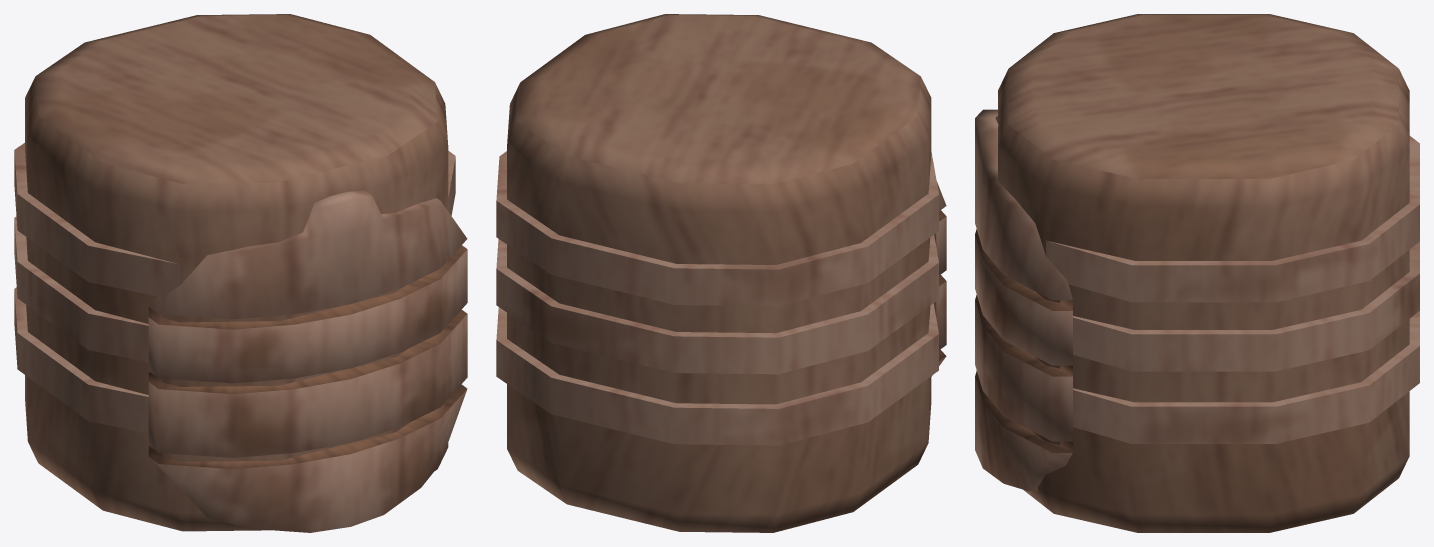
File: totem_pole_cockroach.fbx
3 renders of one model, left to right at view 1: azimuth 30°, elevation 25°; view 2: azimuth 150°, elevation 25°; view 3: azimuth 270°, elevation 25°, orthographic.
Visible parts, largest first — view 1: totem_pole_cockroach; view 2: totem_pole_cockroach; view 3: totem_pole_cockroach.
Part boxes in pixels (bbox=[...]): totem_pole_cockroach: bbox=[14, 14, 467, 532]; totem_pole_cockroach: bbox=[496, 14, 946, 532]; totem_pole_cockroach: bbox=[975, 14, 1419, 532].
Bounding box in the file's own units: 105 × 100 × 108.
1 material, 1 textured.
